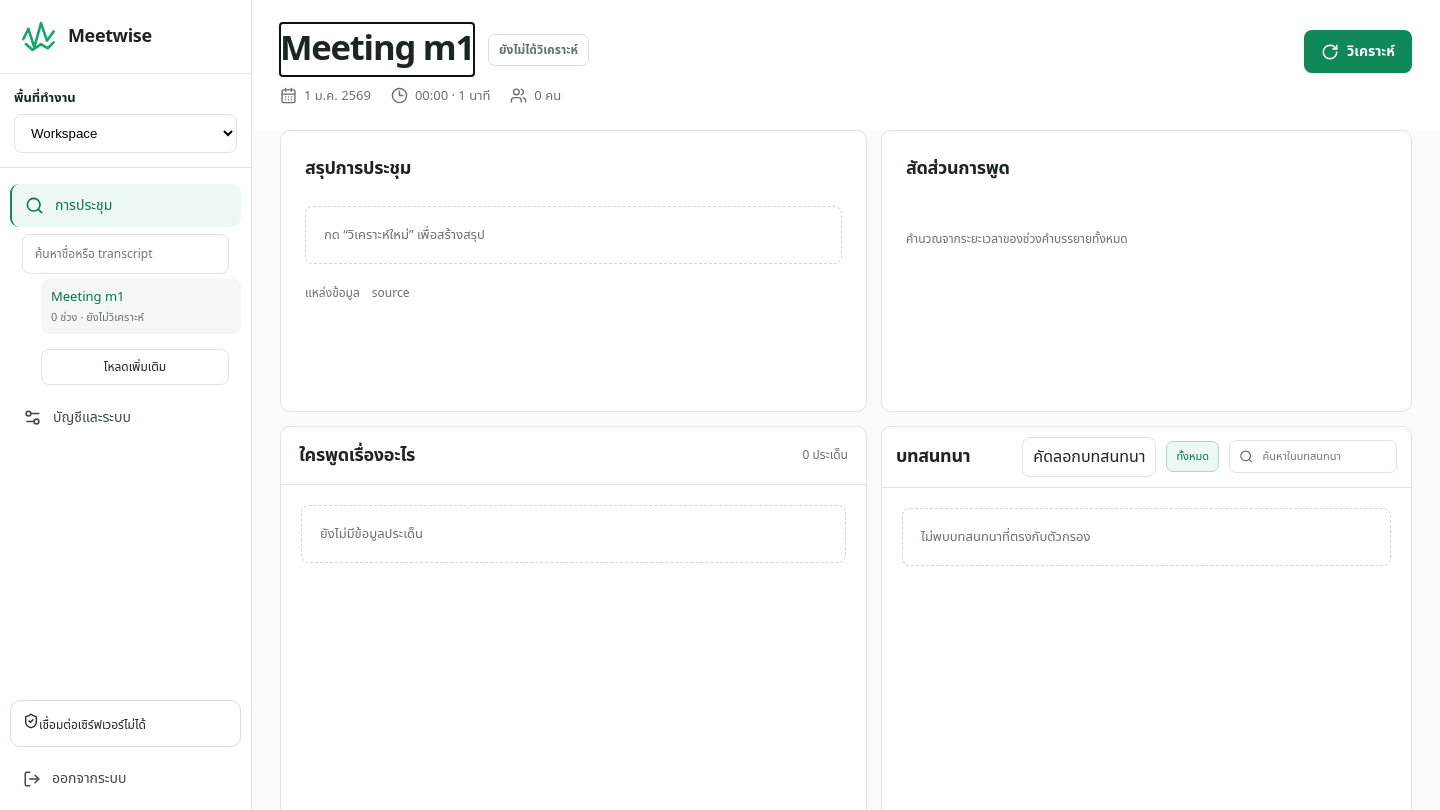
Test: dashboard authentication and role-aware UI › keeps the first page on pagination failure and retries without duplicates
Expected: the heading "Meeting m1" is shown, [280,30,474,70]
Click the button "โหลดเพิ่มเติม": click(135, 367) [41,349,229,385]
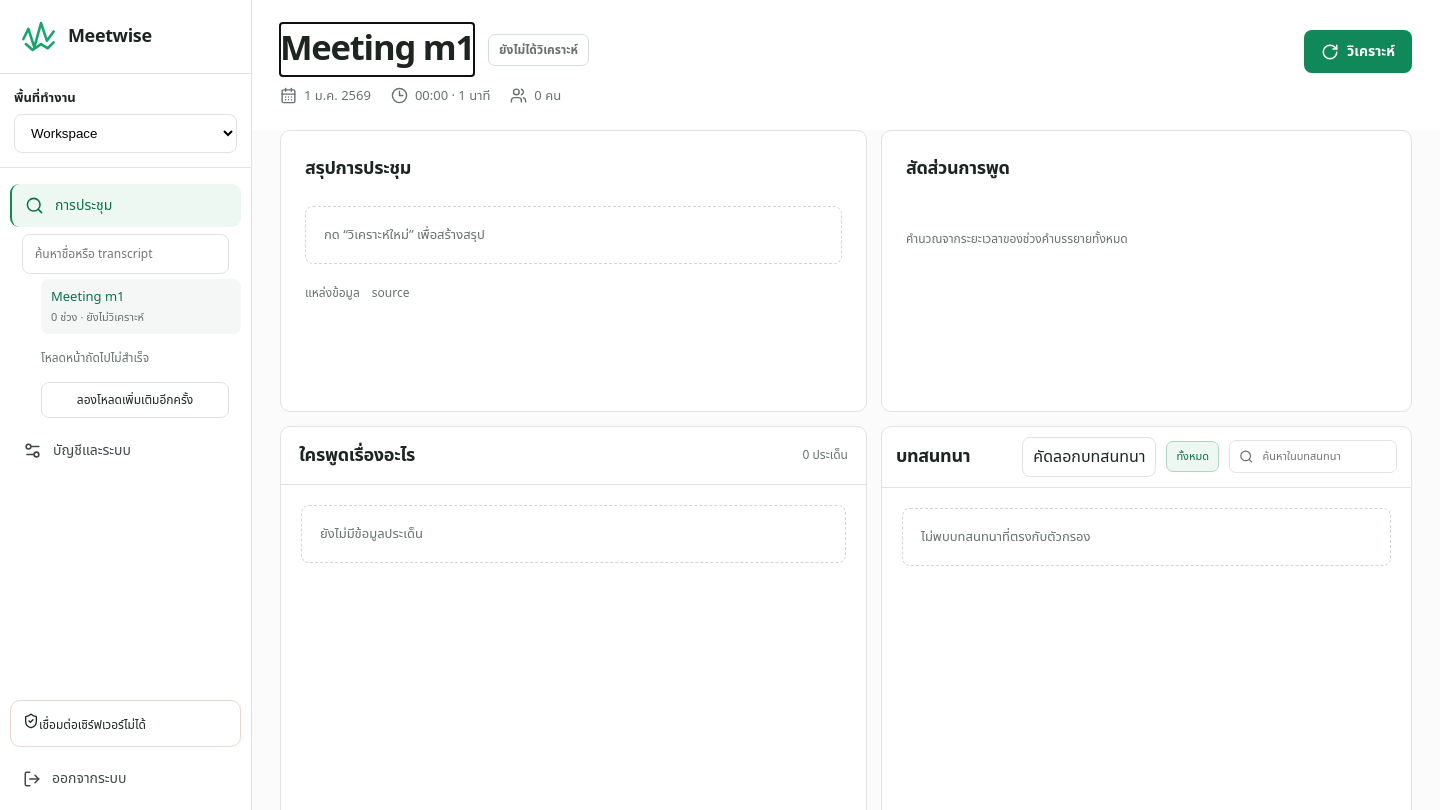
Expected: the heading "Meeting m1" is shown, [280,30,474,70]
Expected: the message reads "โหลดหน้าถัดไปไม่สำเร็จ", [41,349,149,367]
Click the button "ลองโหลดเพิ่มเติมอีกครั้ง": click(135, 400) [41,382,229,418]
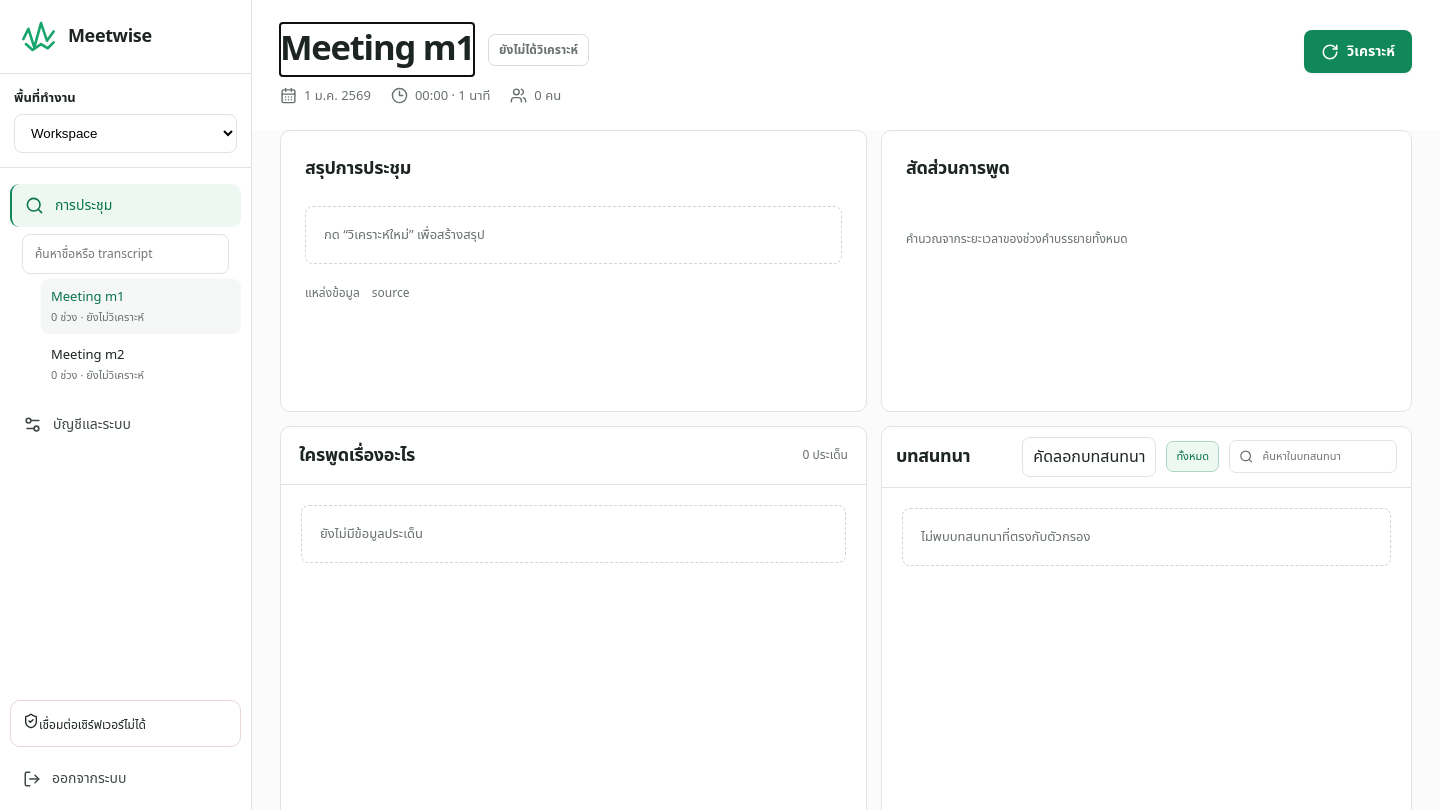
Expected: the button "Meeting m2 0 ช่วง · ยังไม่วิเคราะห์" is shown, [41,337,241,392]
Expected: the number of buttons "Meeting m1 0 ช่วง · ยังไม่วิเคราะห์" is 1, [41,279,241,334]
